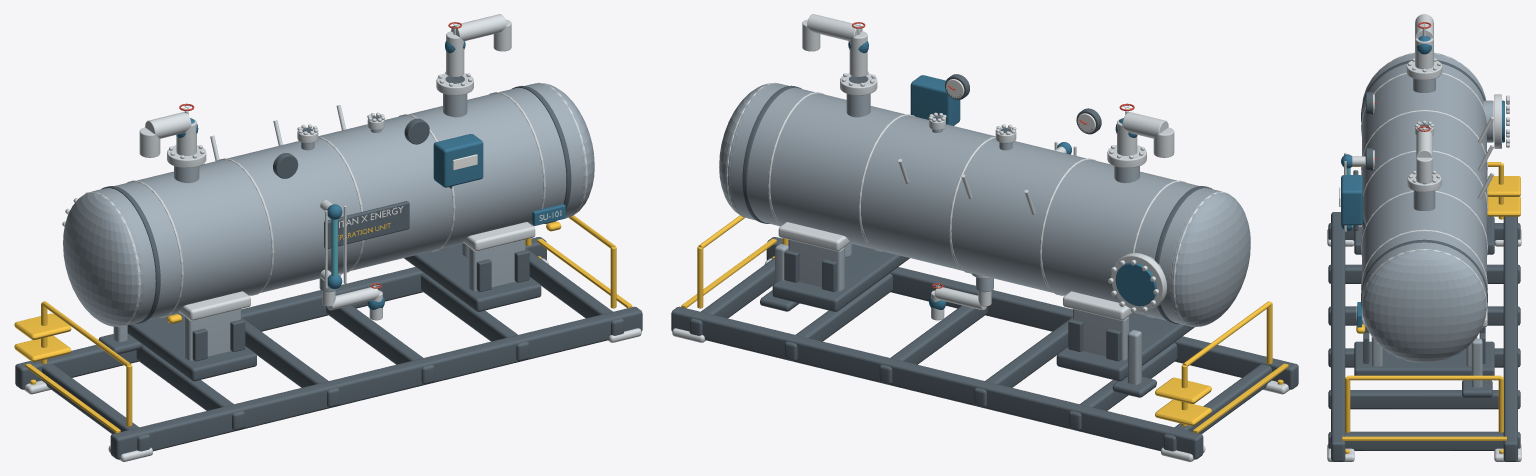
Rendered from separation-unit.glb.
The picture shows the model from 3 angles, left to right: view 1: azimuth 30°, elevation 25°; view 2: azimuth 150°, elevation 25°; view 3: azimuth 270°, elevation 25°; orthographic projection. The views are drawn at different scales.
Visible parts, largest first — view 1: Separation_Unit_Main_Pressure_Vessel, Separation_Unit_Skid_Long_Beam, Separation_Unit_Left_Formed_Head, Separation_Unit_Skid_Long_Beam.001, Separation_Unit_Saddle_Base.001, Separation_Unit_Saddle_Base, Separation_Unit_Skid_Cross_Member.003, Separation_Unit_Skid_Cross_Member.002, Separation_Unit_Skid_Cross_Member.005, Separation_Unit_Equipment_Nameplate, Separation_Unit_Skid_Cross_Member.004, Separation_Unit_Instrument_Junction_Box (+17 smaller); view 2: Separation_Unit_Main_Pressure_Vessel, Separation_Unit_Skid_Long_Beam.001, Separation_Unit_Left_Formed_Head, Separation_Unit_Skid_Long_Beam, Separation_Unit_Saddle_Base.001, Separation_Unit_Saddle_Base, Separation_Unit_Skid_Cross_Member.003, Separation_Unit_Skid_Cross_Member.002, Separation_Unit_Skid_Cross_Member.004, Separation_Unit_Skid_Cross_Member.005, Separation_Unit_Instrument_Junction_Box, Separation_Unit_Skid_Cross_Member (+18 smaller); view 3: Separation_Unit_Main_Pressure_Vessel, Separation_Unit_Right_Formed_Head, Separation_Unit_Skid_Long_Beam.001, Separation_Unit_Skid_Long_Beam, Separation_Unit_Skid_Cross_Member.004, Separation_Unit_Skid_Cross_Member.005, Separation_Unit_Saddle_Base.001, Separation_Unit_Instrument_Junction_Box, Separation_Unit_Guard_Rail_Top.001, Separation_Unit_Safety_End_Marking.001, Separation_Unit_Skid_Cross_Member.001, Separation_Unit_Skid_Cross_Member.002 (+30 smaller).
Boxes of the visible parts, <box> form: Separation_Unit_Main_Pressure_Vessel: <box>93,83,583,325</box>; Separation_Unit_Skid_Long_Beam: <box>110,306,642,459</box>; Separation_Unit_Left_Formed_Head: <box>63,191,143,326</box>; Separation_Unit_Skid_Long_Beam.001: <box>15,237,546,389</box>; Separation_Unit_Saddle_Base.001: <box>404,244,541,311</box>; Separation_Unit_Saddle_Base: <box>127,312,256,381</box>; Separation_Unit_Skid_Cross_Member.003: <box>326,295,434,384</box>; Separation_Unit_Skid_Cross_Member.002: <box>241,318,339,407</box>; Separation_Unit_Skid_Cross_Member.005: <box>525,248,623,335</box>; Separation_Unit_Equipment_Nameplate: <box>324,201,409,248</box>; Separation_Unit_Skid_Cross_Member.004: <box>421,273,529,360</box>; Separation_Unit_Instrument_Junction_Box: <box>433,134,483,187</box>; Separation_Unit_Main_Pressure_Vessel: <box>730,83,1220,325</box>; Separation_Unit_Skid_Long_Beam.001: <box>671,306,1203,459</box>; Separation_Unit_Left_Formed_Head: <box>1170,191,1250,326</box>; Separation_Unit_Skid_Long_Beam: <box>766,237,1298,389</box>; Separation_Unit_Saddle_Base.001: <box>772,244,909,311</box>; Separation_Unit_Saddle_Base: <box>1056,313,1194,381</box>; Separation_Unit_Skid_Cross_Member.003: <box>879,295,987,384</box>; Separation_Unit_Skid_Cross_Member.002: <box>974,318,1072,407</box>; Separation_Unit_Skid_Cross_Member.004: <box>784,273,892,360</box>; Separation_Unit_Skid_Cross_Member.005: <box>689,257,774,335</box>; Separation_Unit_Instrument_Junction_Box: <box>910,75,960,125</box>; Separation_Unit_Skid_Cross_Member: <box>1163,364,1271,451</box>; Separation_Unit_Main_Pressure_Vessel: <box>1362,54,1486,301</box>; Separation_Unit_Right_Formed_Head: <box>1362,248,1486,362</box>; Separation_Unit_Skid_Long_Beam.001: <box>1503,216,1517,461</box>; Separation_Unit_Skid_Long_Beam: <box>1331,212,1345,461</box>; Separation_Unit_Skid_Cross_Member.004: <box>1328,390,1520,409</box>; Separation_Unit_Skid_Cross_Member.005: <box>1328,431,1520,450</box>; Separation_Unit_Saddle_Base.001: <box>1354,341,1494,375</box>; Separation_Unit_Instrument_Junction_Box: <box>1341,175,1362,225</box>; Separation_Unit_Guard_Rail_Top.001: <box>1347,375,1501,380</box>; Separation_Unit_Safety_End_Marking.001: <box>1342,436,1506,440</box>; Separation_Unit_Skid_Cross_Member.001: <box>1328,264,1520,283</box>; Separation_Unit_Skid_Cross_Member.002: <box>1328,306,1520,325</box>.
Size of the model in its own units: 5 by 2.77 by 1.77.
